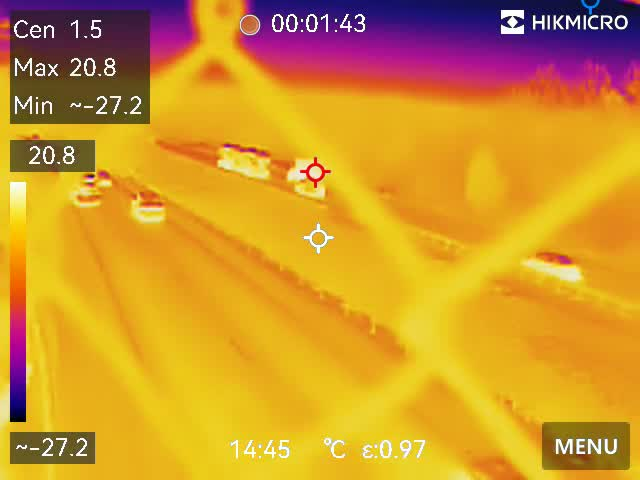heavyTruck: (216, 138, 328, 195)
vehicle: (520, 247, 582, 281), (127, 189, 175, 220)
